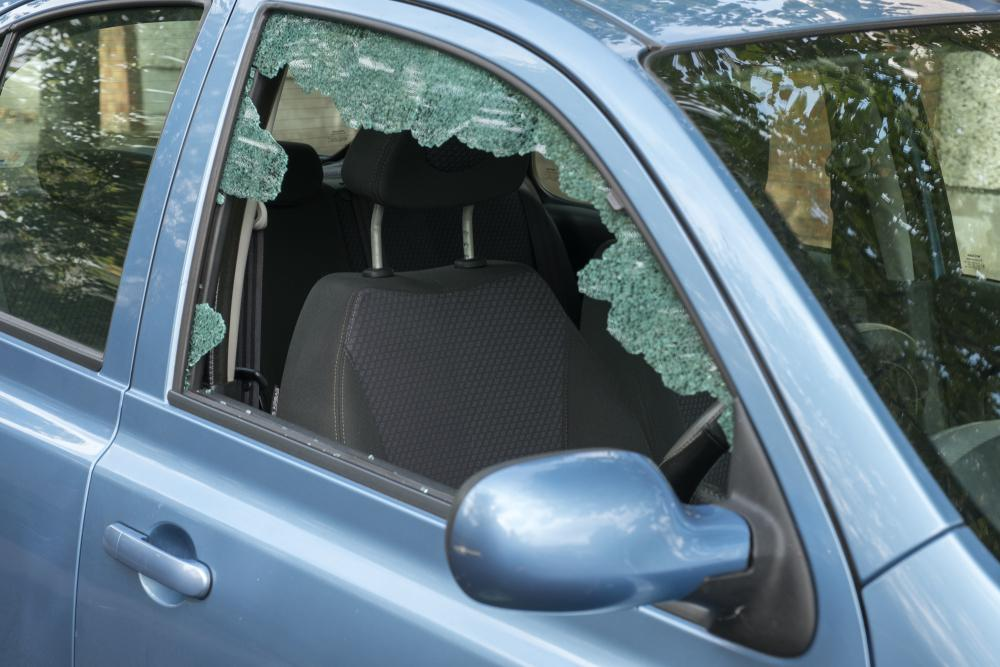glass shatter: (182, 10, 734, 505)
